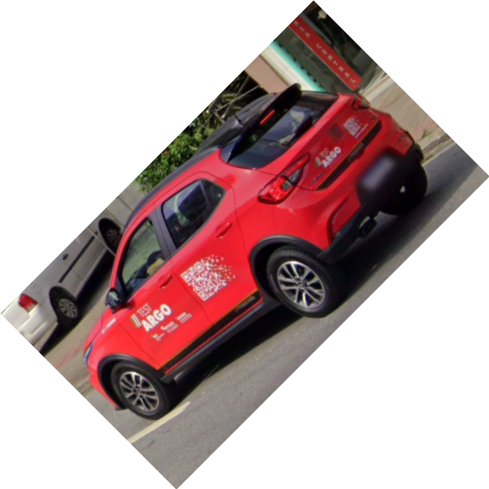car: (83, 86, 428, 422)
